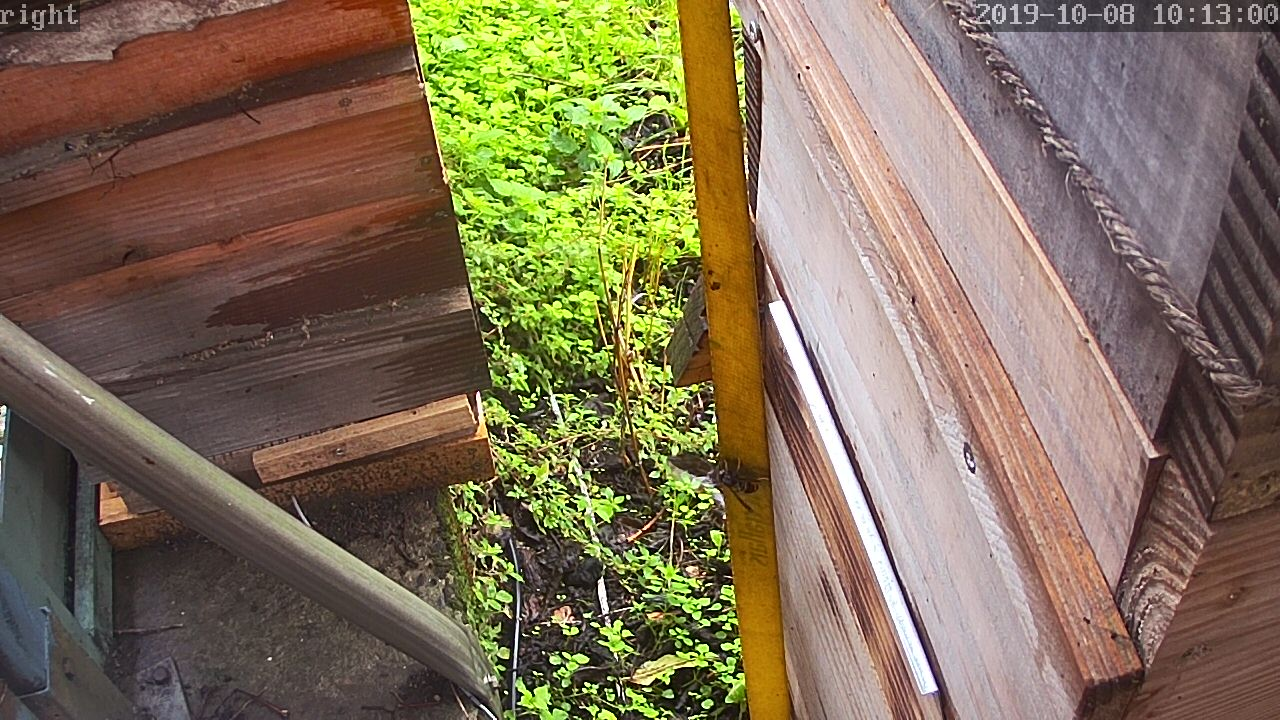hornet: (714, 449, 756, 507), (704, 530, 733, 597)
